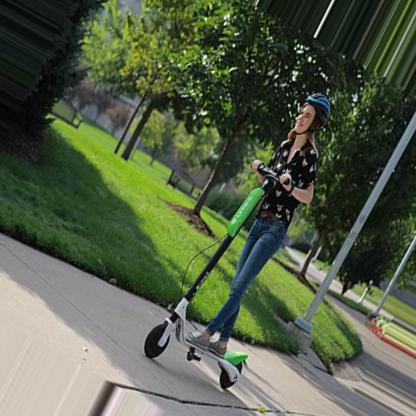scooter: (144, 162, 292, 390)
with helmet: (293, 92, 331, 137)
